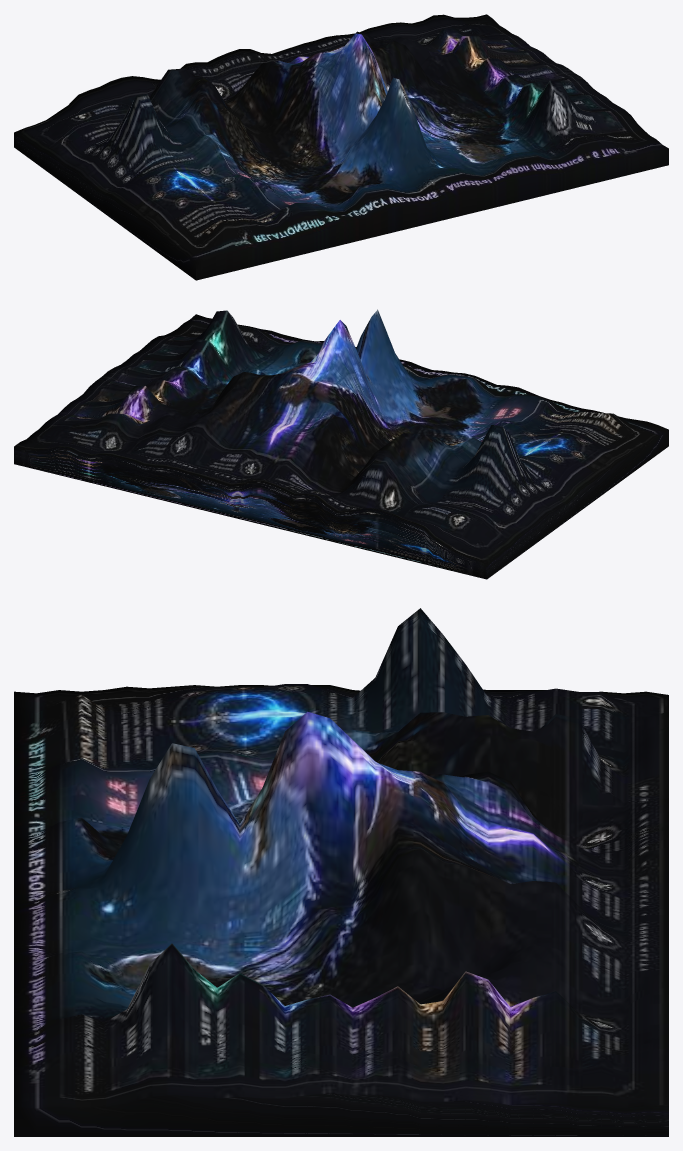
Rendered from RELATIONSHIP_37_Legacy_Weapons.glb.
The picture shows the model from 3 angles, top to bottom: view 1: azimuth 30°, elevation 25°; view 2: azimuth 150°, elevation 25°; view 3: azimuth 270°, elevation 25°; orthographic projection. The views are drawn at different scales.
Parts seen in each view (by area): view 1: RELATIONSHIP_37_Legacy_Weapons; view 2: RELATIONSHIP_37_Legacy_Weapons; view 3: RELATIONSHIP_37_Legacy_Weapons.
Part boxes in pixels (x1=…): RELATIONSHIP_37_Legacy_Weapons: x1=14, y1=14, x2=668, y2=280; RELATIONSHIP_37_Legacy_Weapons: x1=14, y1=309, x2=668, y2=579; RELATIONSHIP_37_Legacy_Weapons: x1=14, y1=608, x2=668, y2=1136.
Bounding box in the file's own units: 2 × 0.51 × 1.33.
1 material, 1 textured.
